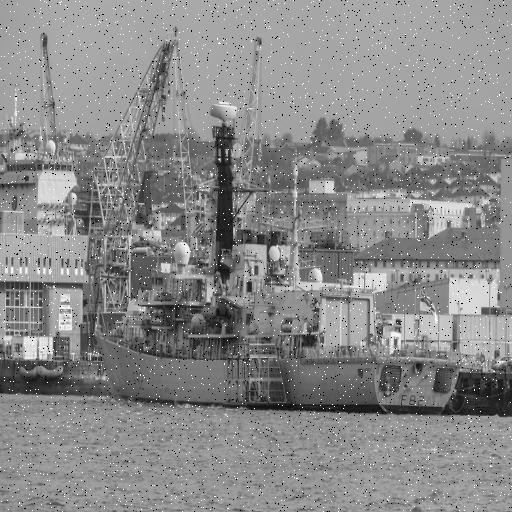Fragata: (90, 90, 465, 419)
